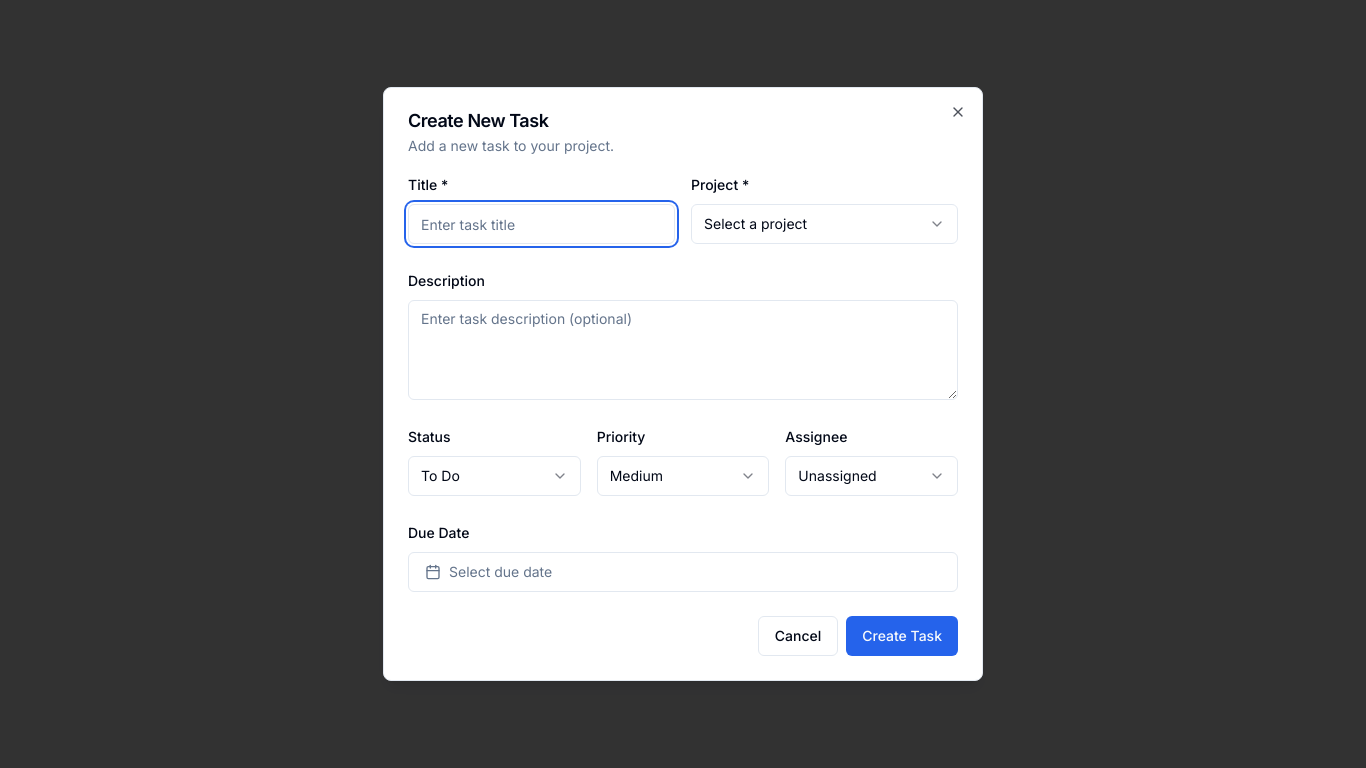
Test: TaskForm › validates required fields
This screenshot has width=1366, height=768.
Try to submit without filling required fields
Click the button "Create Task" at point(902, 636), box x1=846 y1=616 x2=958 y2=656
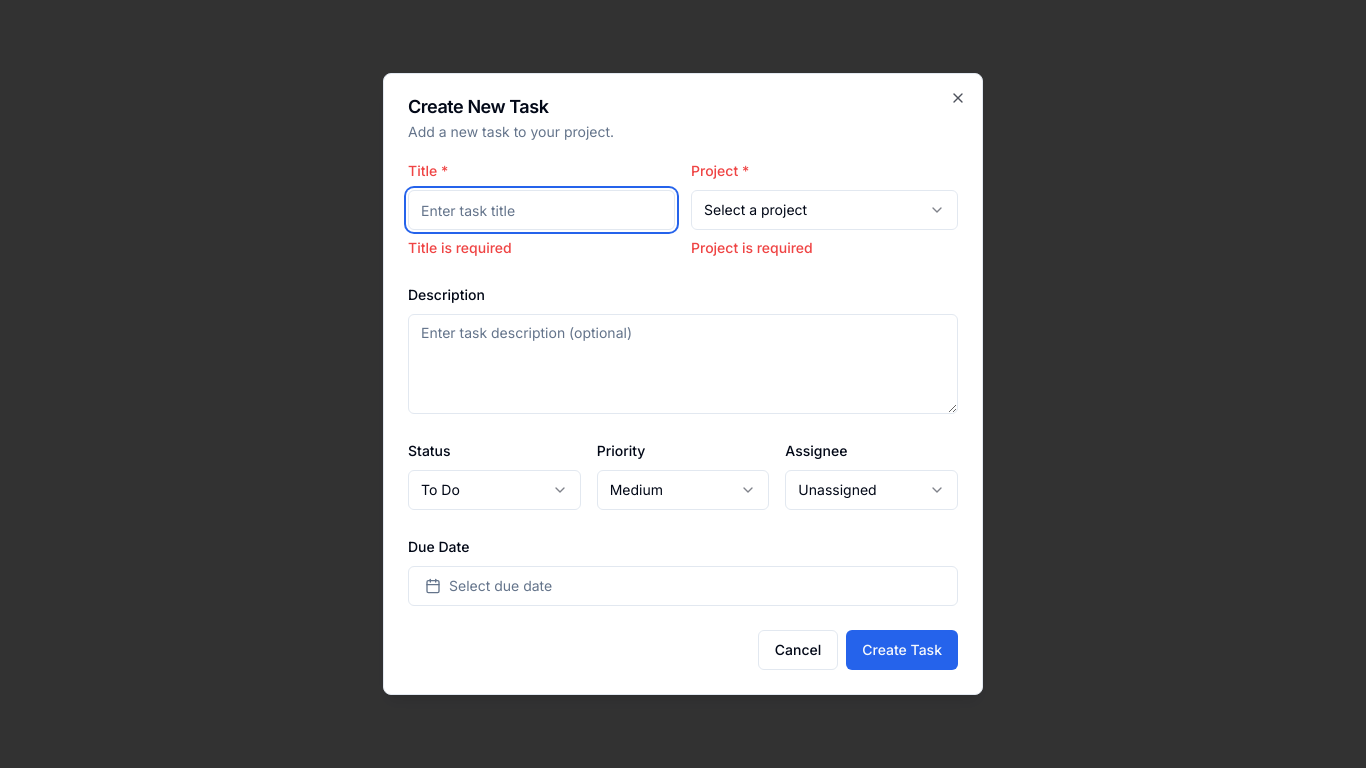
Now the text "Title is required" is shown, box x1=408 y1=239 x2=512 y2=256
Now the text "Project is required" is shown, box x1=691 y1=239 x2=813 y2=256
